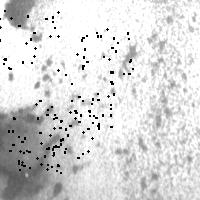pitted_surface: (51, 6, 197, 157), (1, 104, 59, 199), (0, 10, 57, 69), (8, 114, 65, 172), (35, 100, 91, 157), (76, 28, 132, 81), (65, 74, 113, 128), (4, 1, 33, 30)
